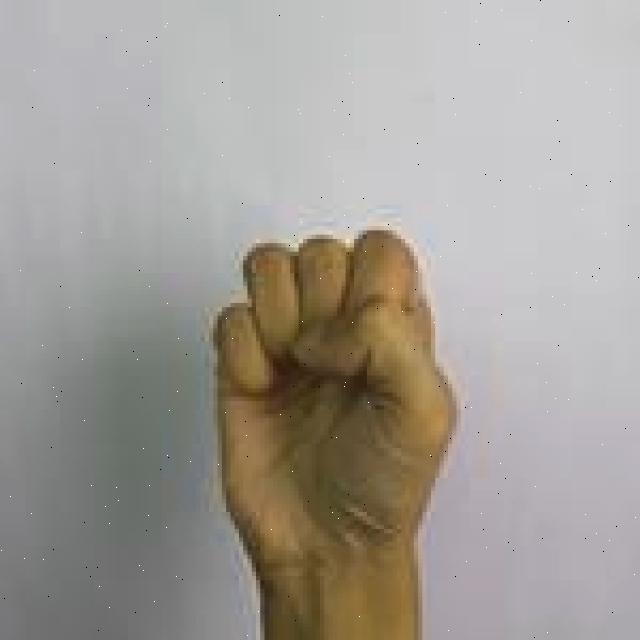S: (206, 227, 464, 640)
